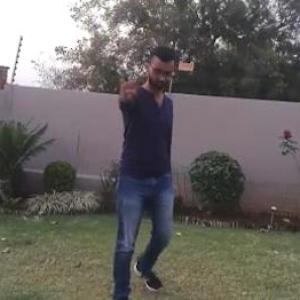takeoff-hand: (109, 60, 143, 111)
